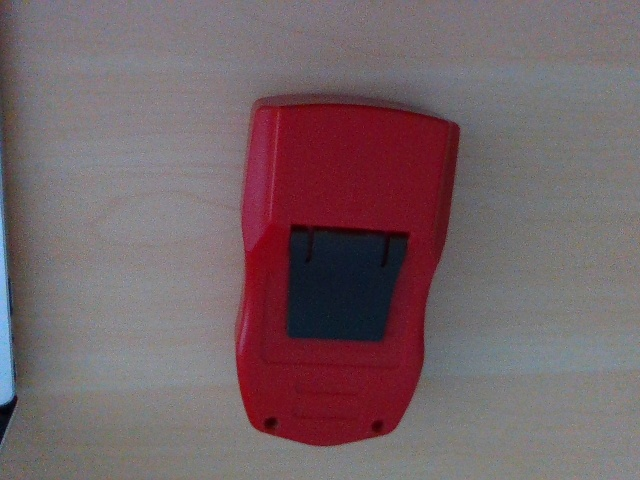multimeter: (236, 94, 461, 447)
screw hole: (264, 417, 277, 430), (373, 419, 384, 431)
